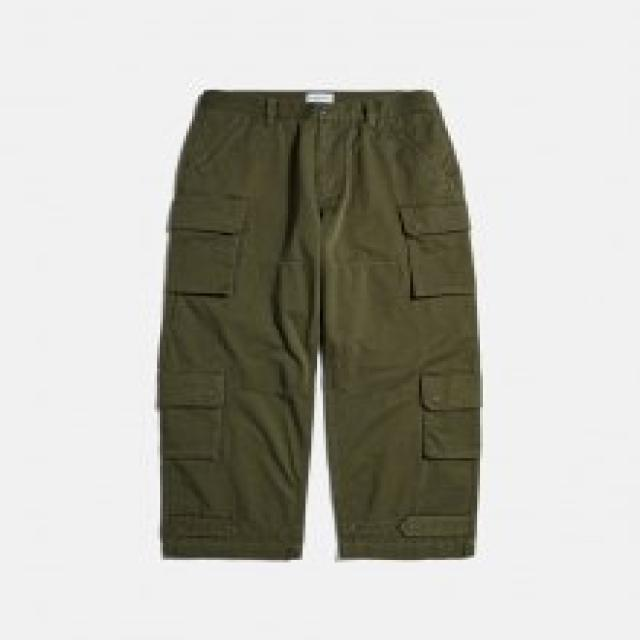long-pants: (155, 86, 482, 565)
